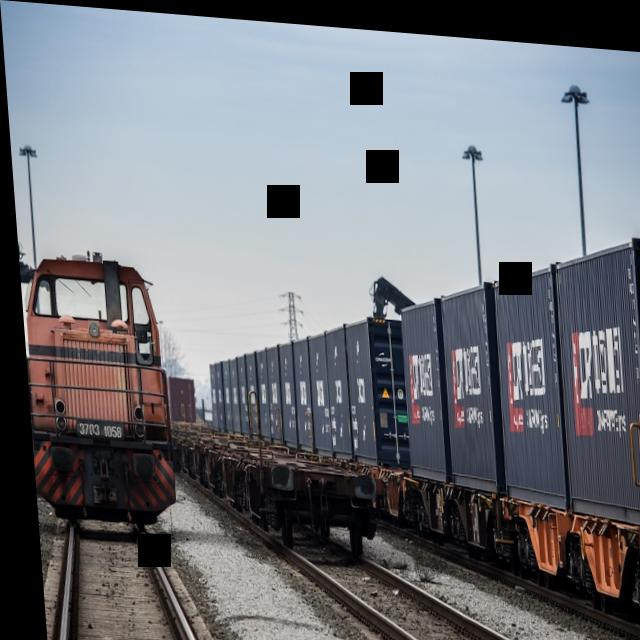container: (545, 216, 640, 522), (483, 247, 566, 501), (430, 264, 500, 488), (337, 305, 405, 468), (392, 284, 447, 478), (318, 314, 349, 459)
flatcar: (205, 439, 376, 557), (563, 501, 640, 610), (496, 489, 570, 583), (442, 477, 496, 551)
locomotive: (14, 233, 183, 550)
